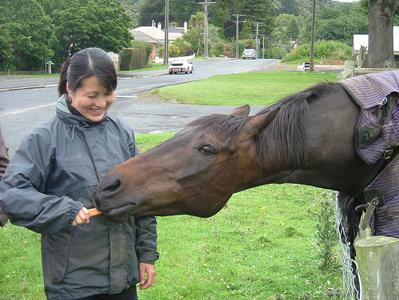person: (1, 48, 159, 300)
